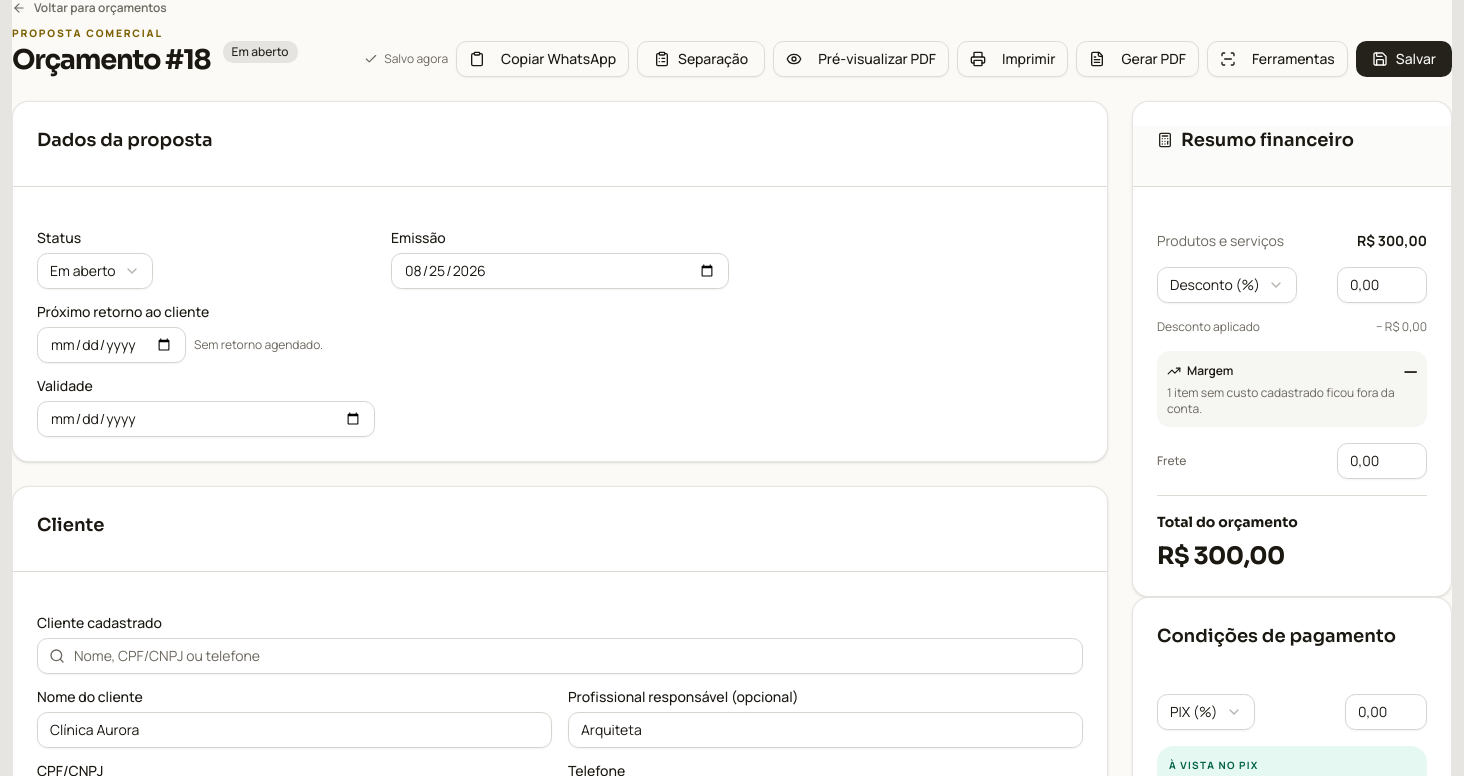
Test: QuoteEditorPage › busca o cliente cadastrado pelo CPF ou telefone e preenche os dados
In the dropdown named "Buscar cliente cadastrado": (560, 656) [37,638,1083,674], type "52998224725"
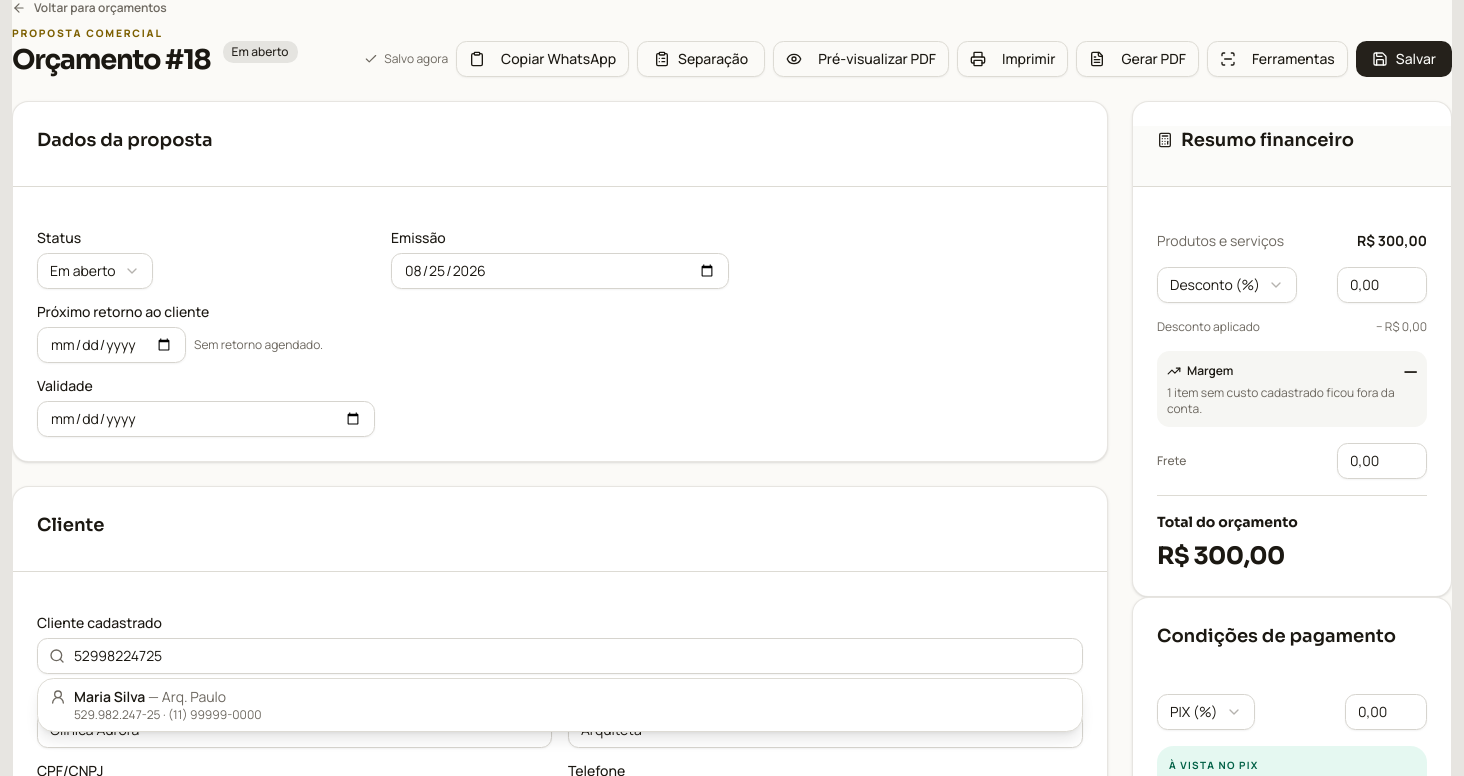
Click the button "Maria Silva — Arq. Paulo 529.982.247-25 · (11) 99999-0000": (110, 696) [38,679,1082,731]
(page scrolled)
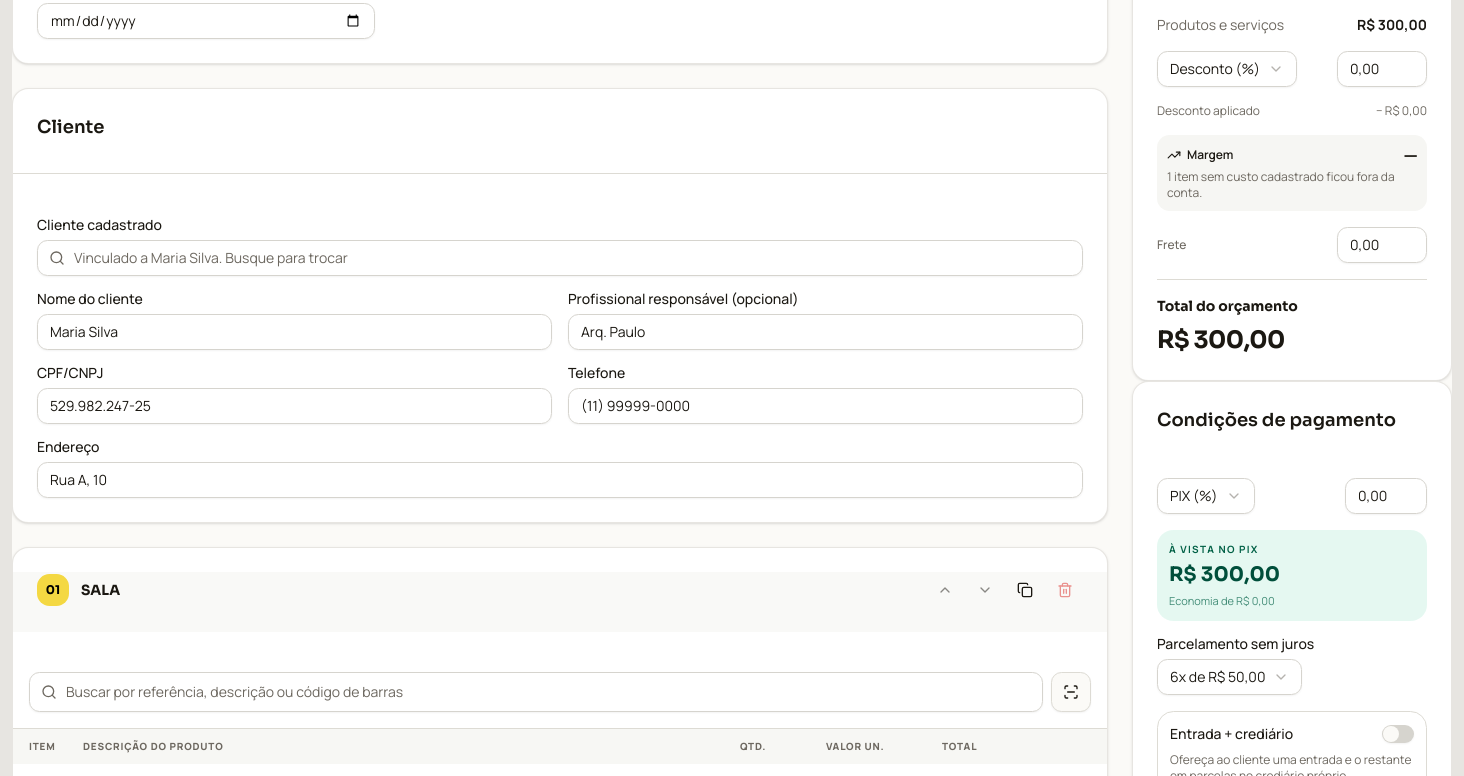
Check: the field labelled "CPF/CNPJ" holds "529.982.247-25", box [37,388,552,424]
Check: the field labelled "Telefone" holds "(11) 99999-0000"
Check: the field showing "Rua A, 10" is shown, box [37,462,1083,498]
Digitar o telefone no orçamento formata, mas não bloqueia.
Replace the text in the field labelled "Telefone" with "2131234": (826, 406) [568,388,1083,424]
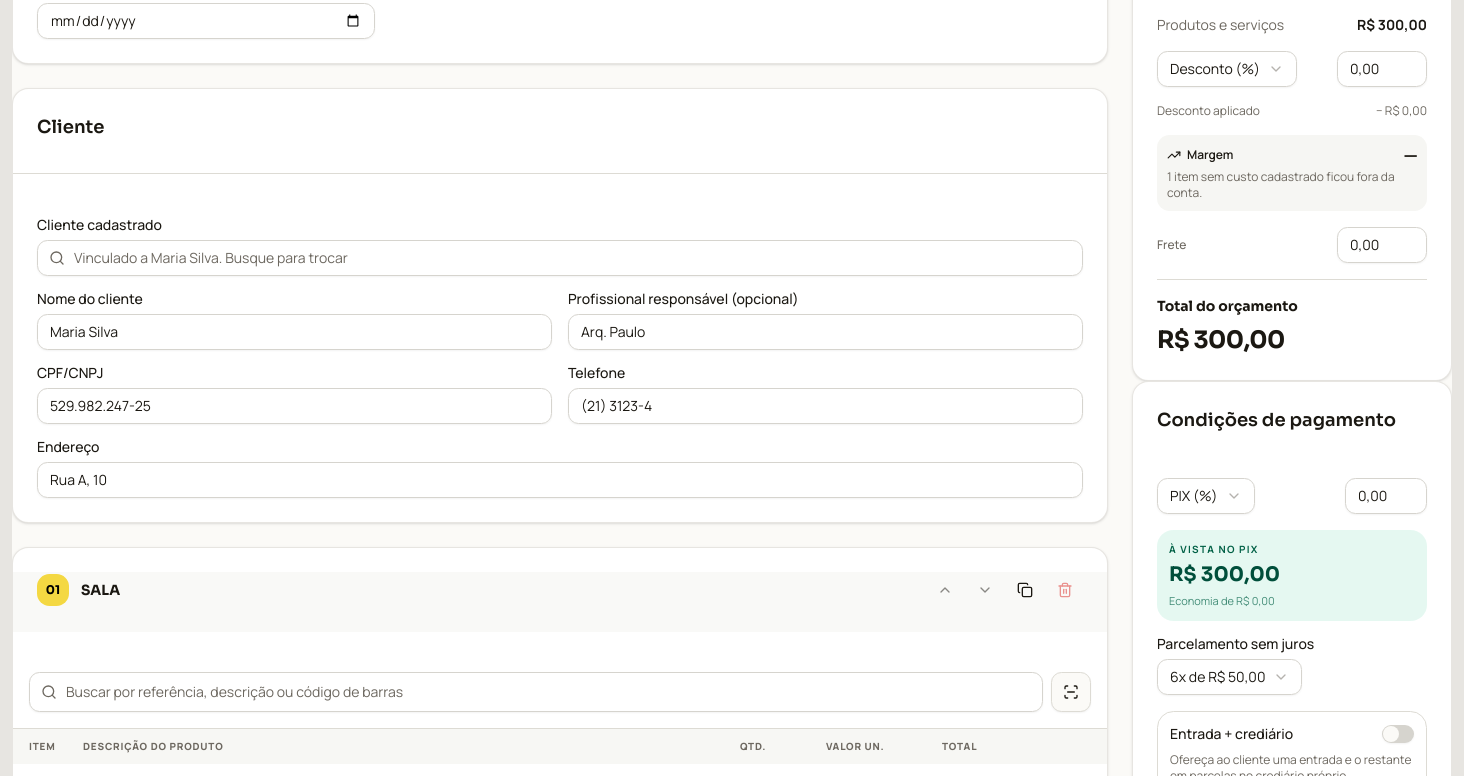
Check: the field labelled "Telefone" holds "(21) 3123-4", box [568,388,1083,424]
